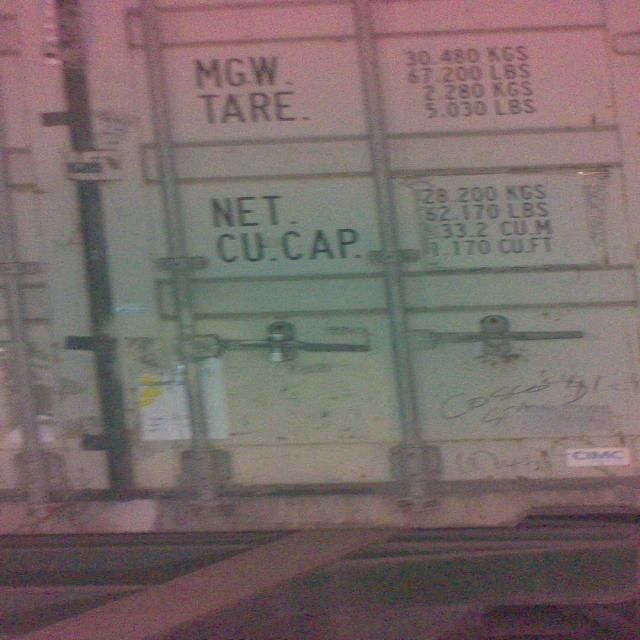seal: (266, 331, 296, 362)
